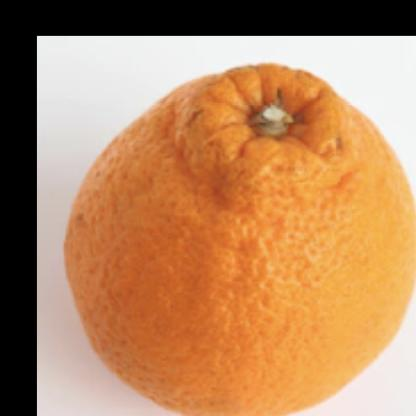fresh: (62, 62, 416, 416)
